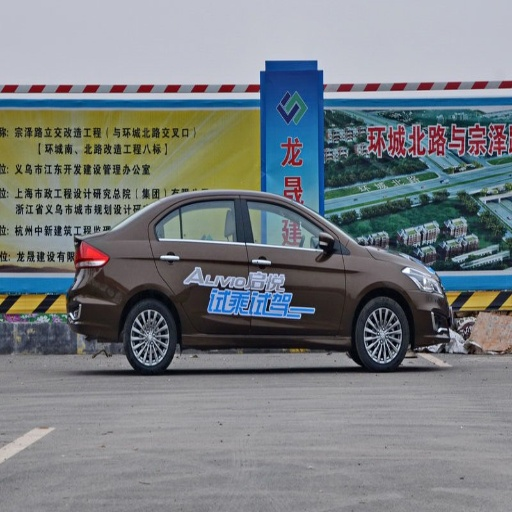back_right_door: (153, 195, 250, 334)
front_right_door: (243, 196, 346, 331)
